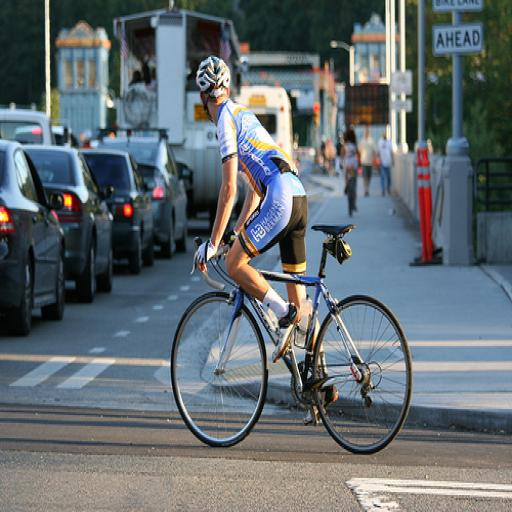bicycle: (168, 222, 413, 455), (344, 174, 358, 218)
person: (192, 55, 338, 424), (339, 127, 361, 213), (377, 129, 396, 196), (360, 122, 375, 198)
vehicle: (112, 6, 240, 236), (16, 146, 114, 304), (0, 139, 66, 340), (96, 127, 188, 256), (71, 148, 156, 270), (233, 86, 297, 193)
